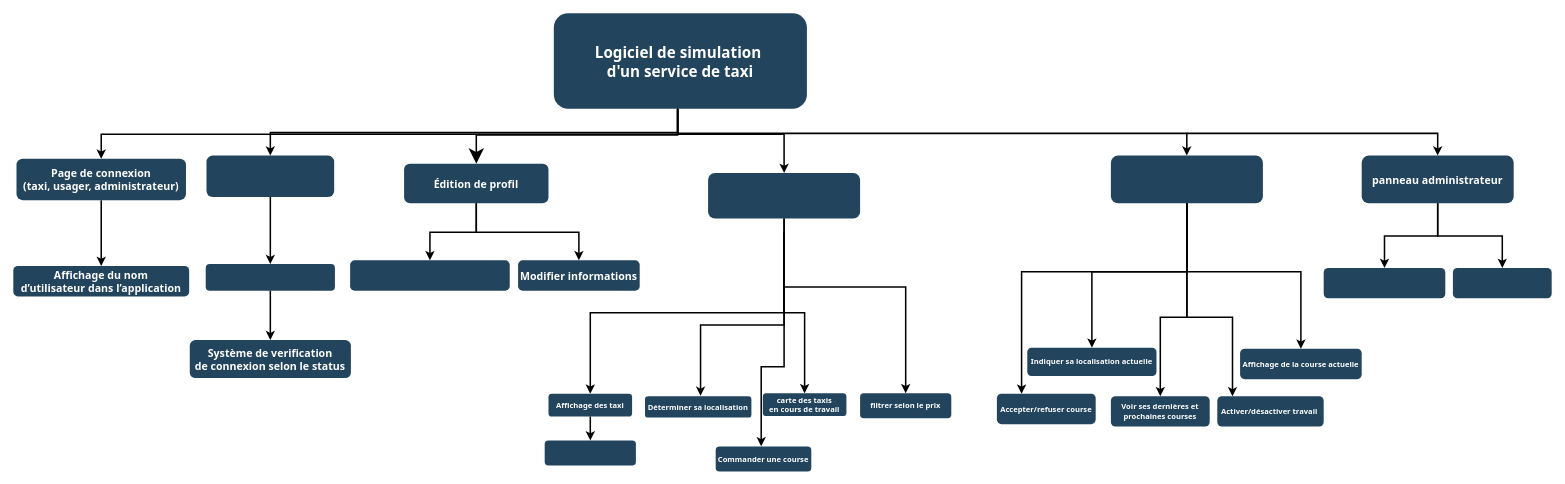
Some shapes in this 1565 by 484 pixel diagram are drawn without their labels. Here are the shapes that lost their labels. From the top down, the centre of each, then its label:
At (x=270, y=176): "Page d’inscription".
At (x=784, y=195): "Page client".
At (x=1187, y=179): "Page conducteur".
At (x=270, y=277): "Différents status".
At (x=429, y=275): "Démission ou désinscription".
At (x=1384, y=283): "Liste des utilisateurs".
At (x=1502, y=283): "Liste des taxis".
At (x=590, y=452): "Note moyenne du taxi".
